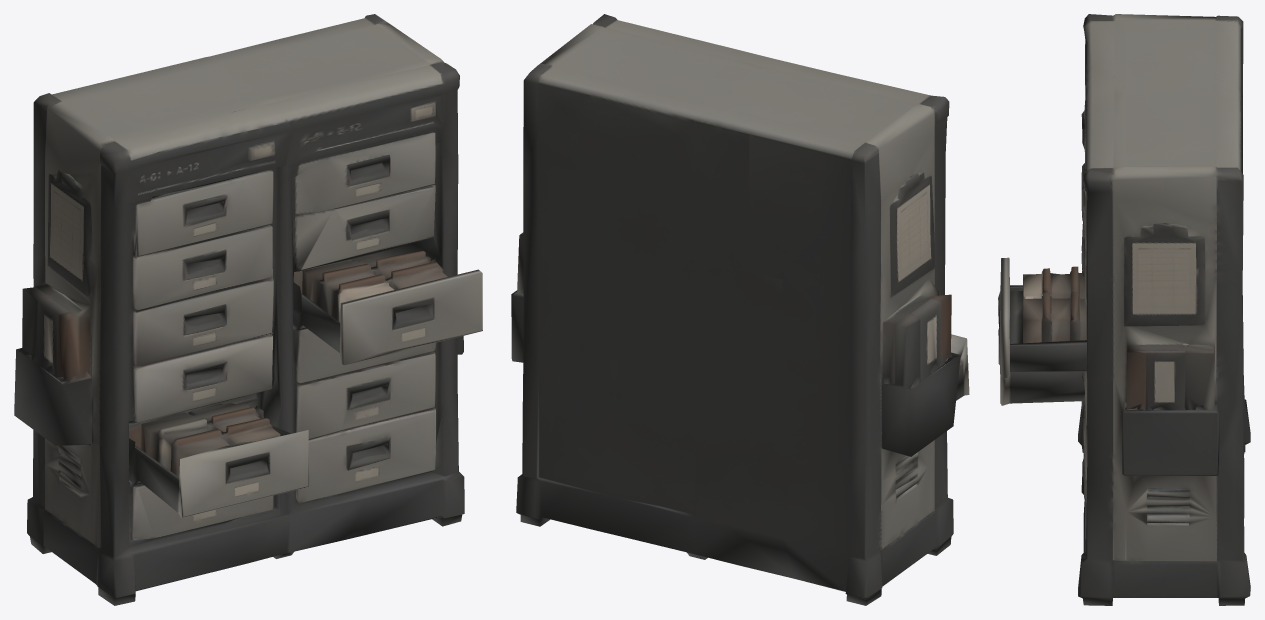
Rendered from ENV_ALL_115_v001_RAW.glb.glb.
3 renders of one model, left to right at view 1: azimuth 30°, elevation 25°; view 2: azimuth 150°, elevation 25°; view 3: azimuth 270°, elevation 25°, orthographic. The views are drawn at different scales.
Visible parts, largest first — view 1: tripo_node_e355e85d-2afb-403b-b49f-b0d49d70cd93; view 2: tripo_node_e355e85d-2afb-403b-b49f-b0d49d70cd93; view 3: tripo_node_e355e85d-2afb-403b-b49f-b0d49d70cd93.
Part boxes in pixels (box(x1,y1,x2,y2)): tripo_node_e355e85d-2afb-403b-b49f-b0d49d70cd93: box(14, 14, 482, 605); tripo_node_e355e85d-2afb-403b-b49f-b0d49d70cd93: box(511, 14, 969, 605); tripo_node_e355e85d-2afb-403b-b49f-b0d49d70cd93: box(998, 14, 1250, 605).
Size of the model in its own units: 0.9135 by 0.9778 by 0.5191.
Materials: 1 (1 with a texture image).
